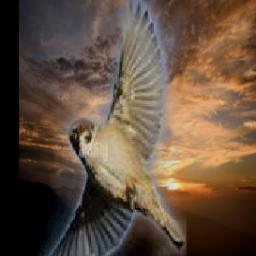Sparrow: (37, 0, 187, 256)
